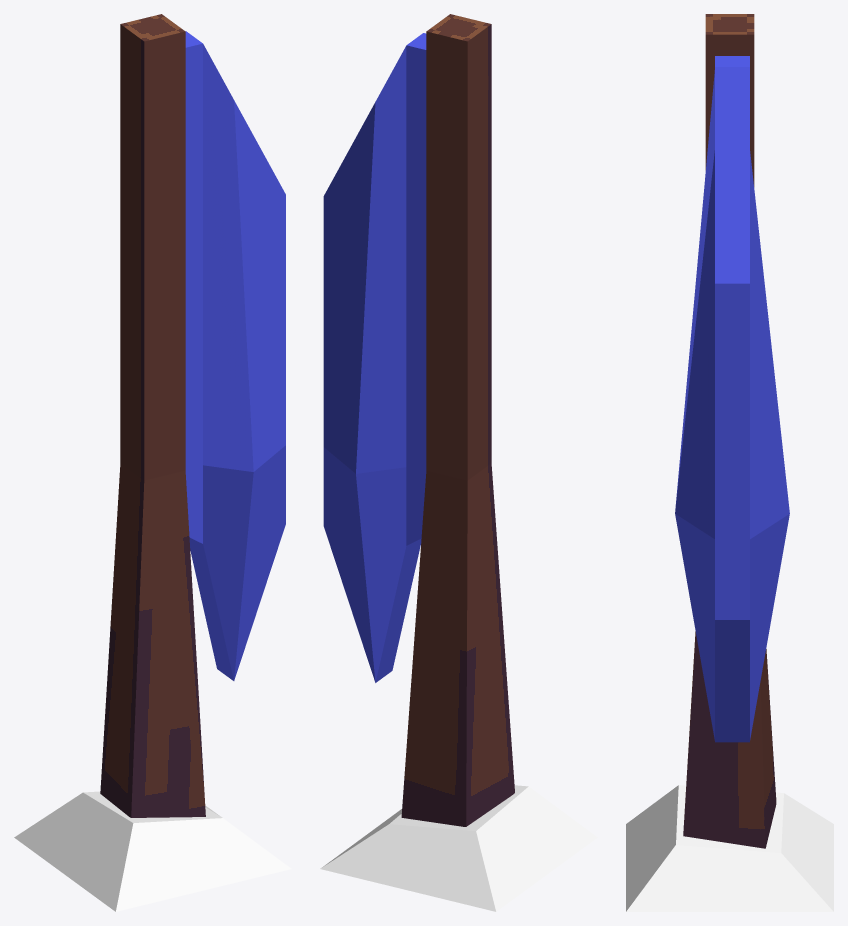
File: flag_off_2.glb
3 views of the same model, side by side, from view 1: azimuth 30°, elevation 25°; view 2: azimuth 150°, elevation 25°; view 3: azimuth 270°, elevation 25° (orthographic). The views are drawn at different scales.
Parts seen in each view (by area): view 1: Cube.003, Cube.005, Cube.004; view 2: Cube.003, Cube.005, Cube.004; view 3: Cube.005, Cube.004, Cube.003.
Boxes of the visible parts, x1,y1,x2,y2 form: Cube.003: (100,14,205,817); Cube.005: (185,31,285,680); Cube.004: (14,791,291,911); Cube.003: (401,14,514,826); Cube.005: (323,33,426,682); Cube.004: (320,785,597,911); Cube.005: (675,56,789,742); Cube.004: (626,785,833,911); Cube.003: (683,14,776,848).
Bounding box in the file's own units: 24.28 × 89.56 × 20.
1 material, 1 textured.
